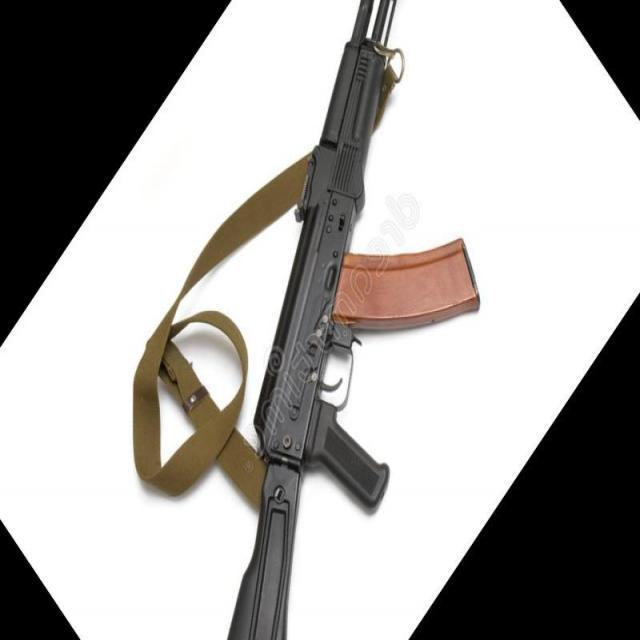weapon: (225, 0, 481, 640)
